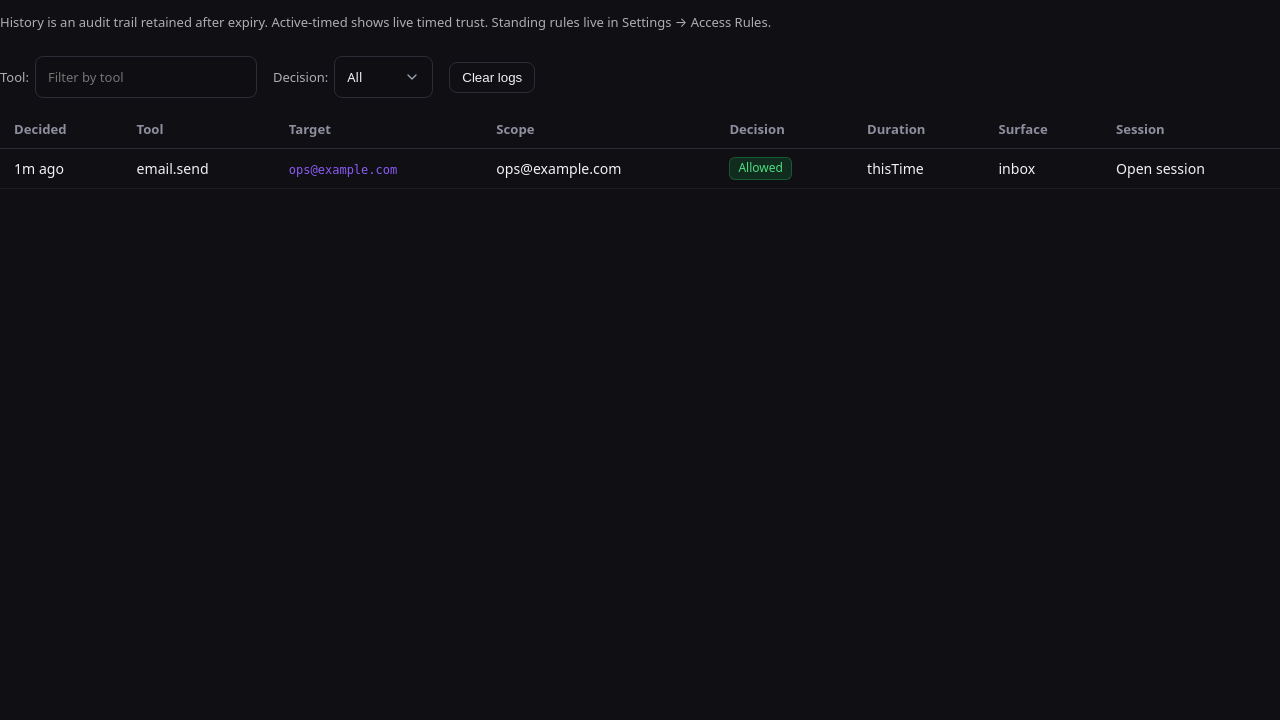
Test: ApprovalHistory › gates the DELETE behind confirmation and refetches afterwards
Expected: the row with test id "approval-history-row-entry-1" is shown, [0,148,1279,188]
Step 1. Click the button "Clear logs" → [492, 77], box [449,62,535,92]
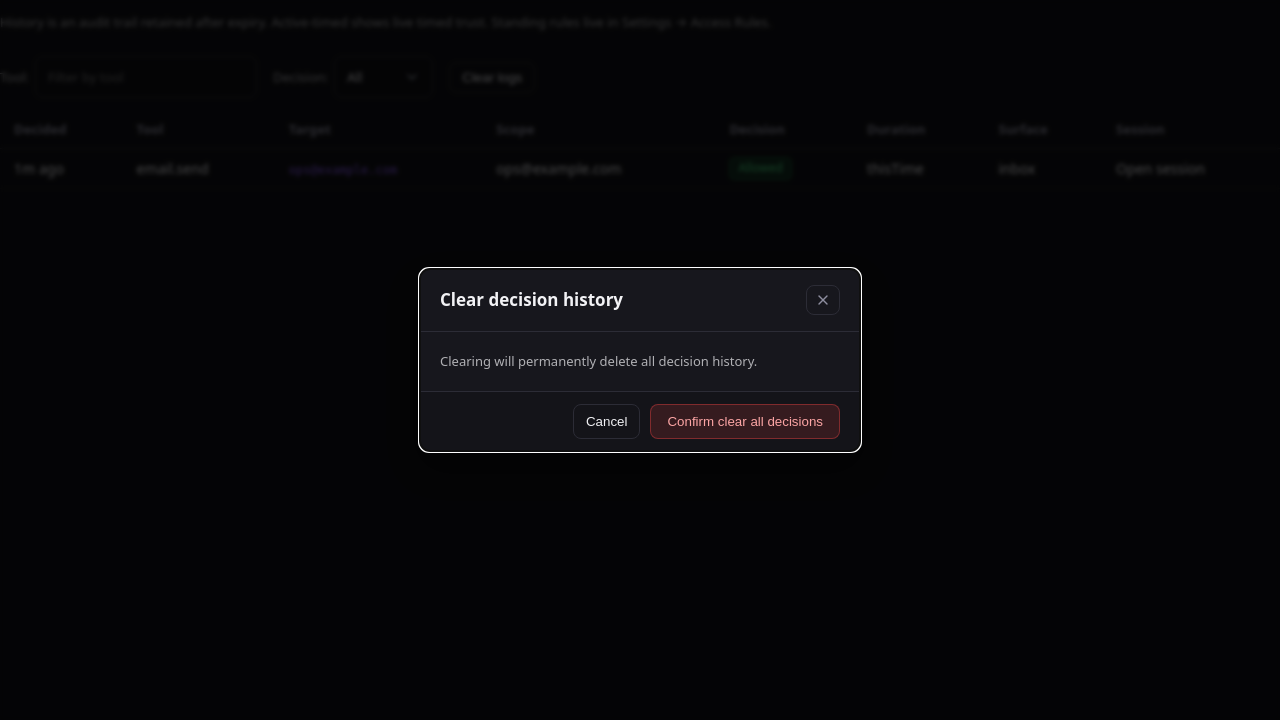
Expected: the dialog "Clear decision history" is shown
Expected: the text "Clearing will permanently delete all decision history." is shown, [440,352,757,370]
Step 2. Click the button "Confirm clear all decisions" → [745, 422], box [650,404,840,439]
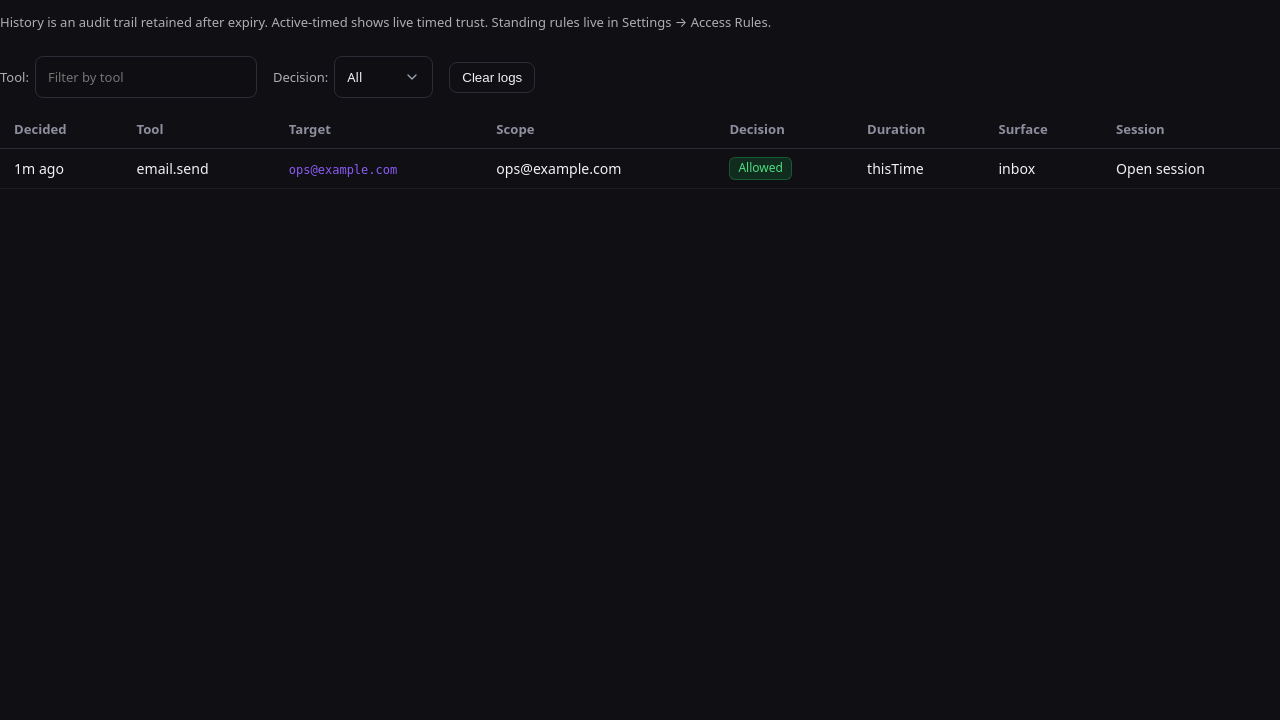
Expected: the heading "Clear decision history" is gone
